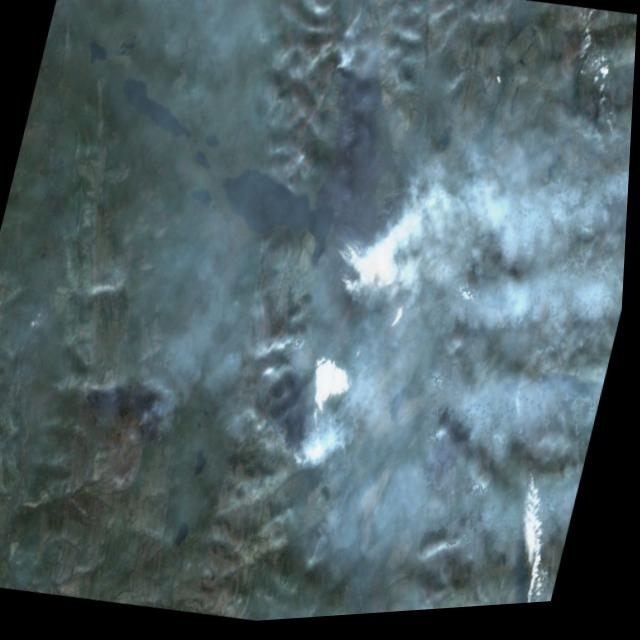fire: (319, 154, 431, 340), (281, 397, 350, 495)
